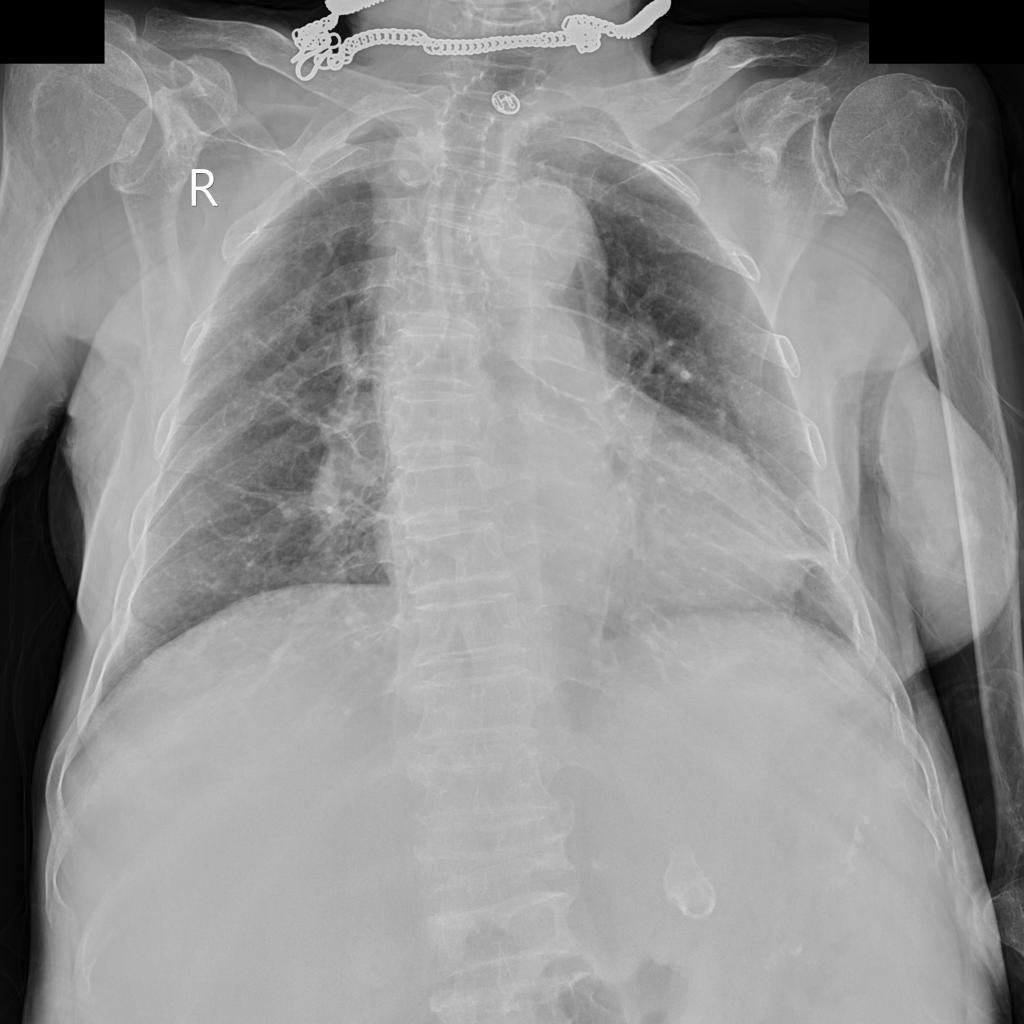Nodule: (485, 186, 583, 296), (396, 124, 443, 187), (542, 314, 588, 363)
